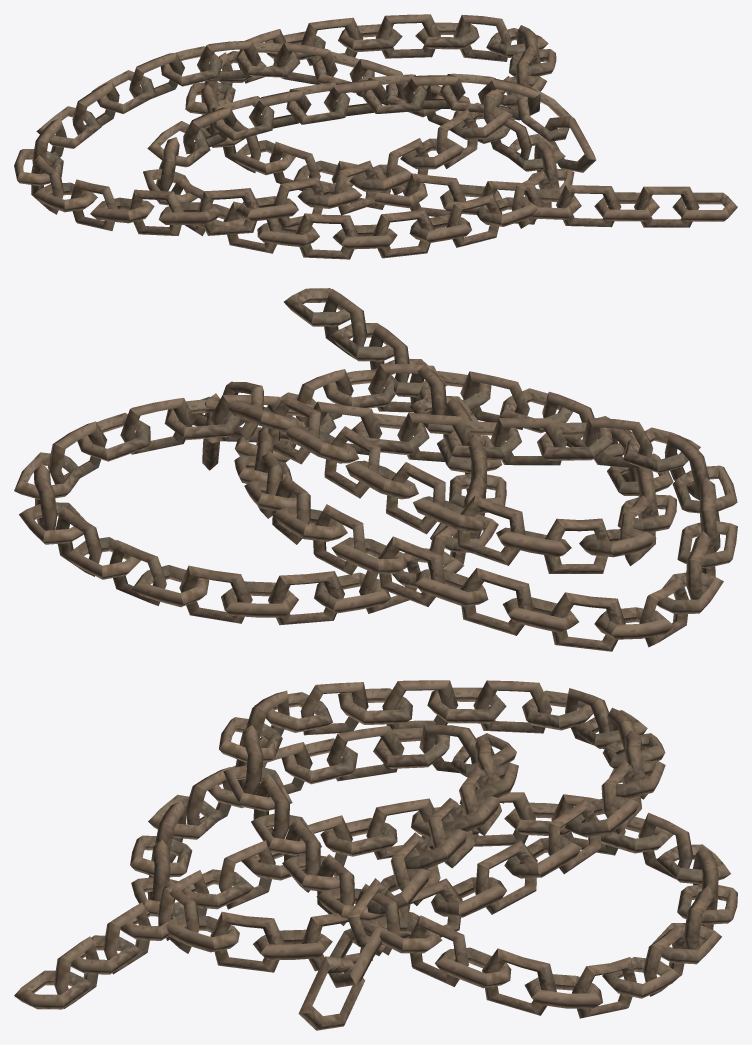
3 renders of one model, top to bottom at view 1: azimuth 30°, elevation 25°; view 2: azimuth 150°, elevation 25°; view 3: azimuth 270°, elevation 25°, orthographic. The views are drawn at different scales.
Parts seen in each view (by area): view 1: SM_GroundChains_01_LOD0; view 2: SM_GroundChains_01_LOD0; view 3: SM_GroundChains_01_LOD0.
Part boxes in pixels (x1,y1,x2,y2): SM_GroundChains_01_LOD0: (14, 14, 737, 259); SM_GroundChains_01_LOD0: (14, 288, 737, 651); SM_GroundChains_01_LOD0: (14, 680, 737, 1030).
Bounding box in the file's own units: 1.88 × 0.3379 × 1.81.
1 material, 1 textured.
